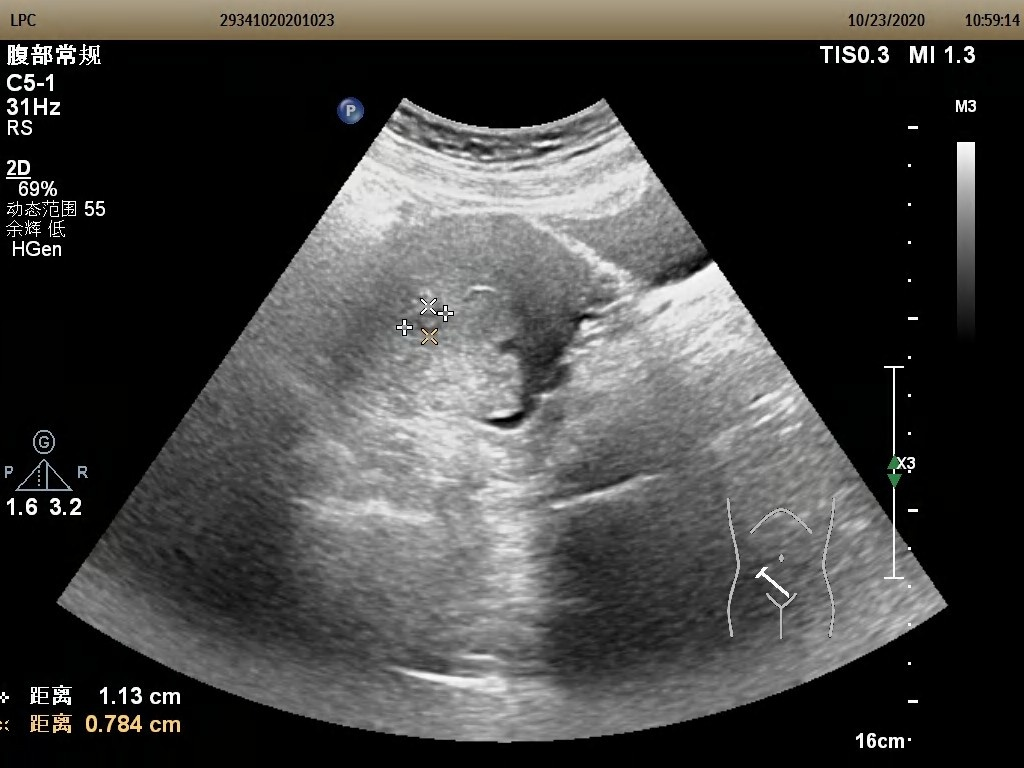肌瘤: (403, 307, 447, 338)
